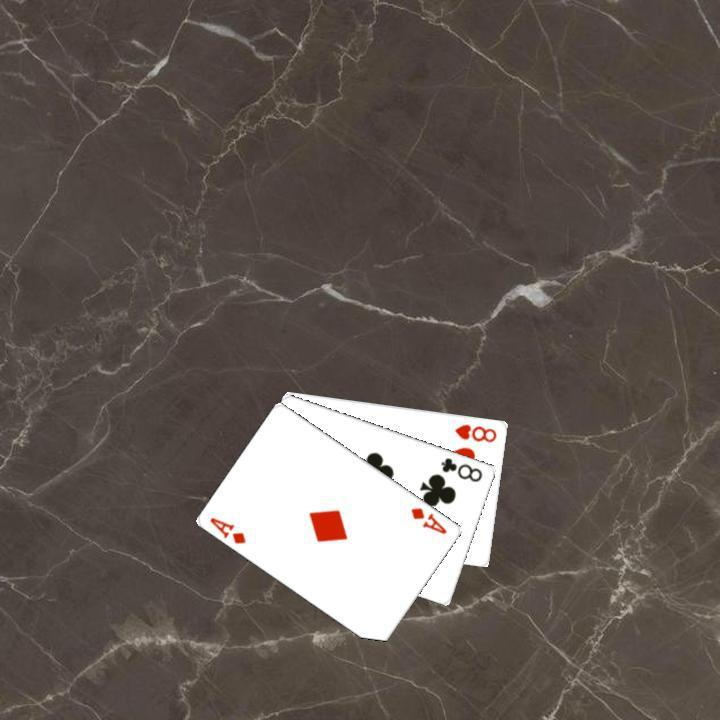8: (437, 453, 485, 484), (450, 419, 499, 444)
A: (407, 503, 449, 536), (206, 513, 248, 546)
